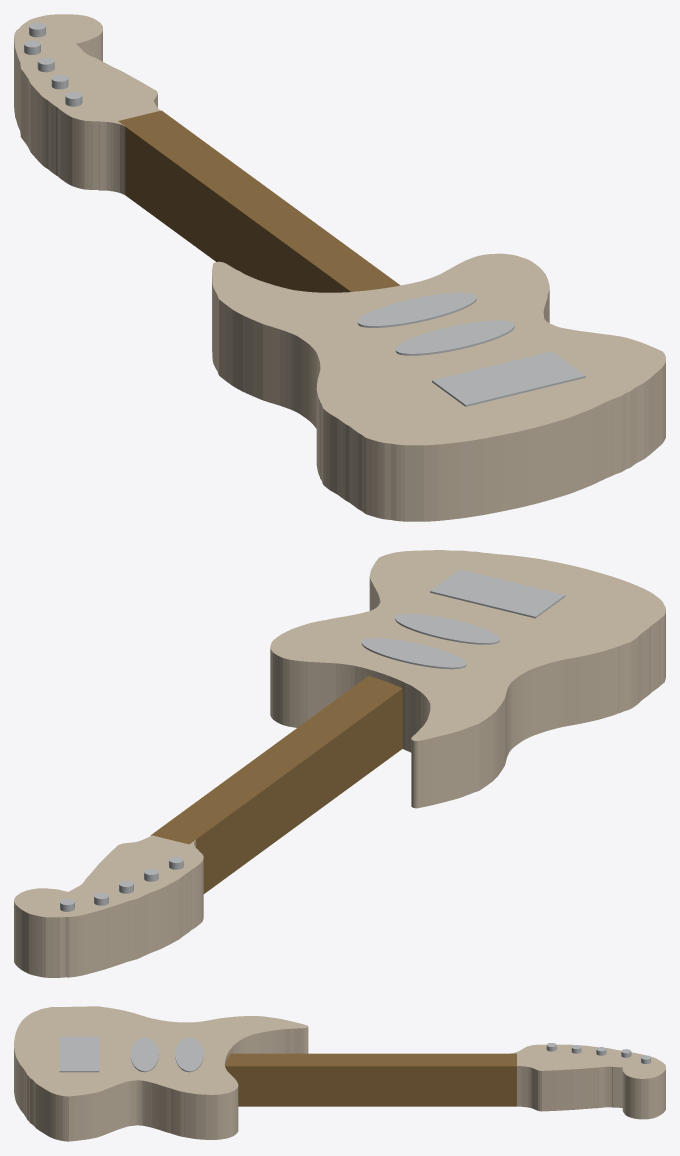
File: Guitar.glb
3 renders of one model, top to bottom at view 1: azimuth 30°, elevation 25°; view 2: azimuth 150°, elevation 25°; view 3: azimuth 270°, elevation 25°, orthographic. The views are drawn at different scales.
Parts seen in each view (by area): view 1: Mesh_Mesh_head_geo.001_lambert2SG.001; view 2: Mesh_Mesh_head_geo.001_lambert2SG.001; view 3: Mesh_Mesh_head_geo.001_lambert2SG.001.
Part boxes in pixels (x1=…): Mesh_Mesh_head_geo.001_lambert2SG.001: x1=14, y1=14, x2=665, y2=521; Mesh_Mesh_head_geo.001_lambert2SG.001: x1=14, y1=550, x2=665, y2=977; Mesh_Mesh_head_geo.001_lambert2SG.001: x1=14, y1=1006, x2=665, y2=1141.
Bounding box in the file's own units: 0.043 × 0.0103 × 0.1311.
